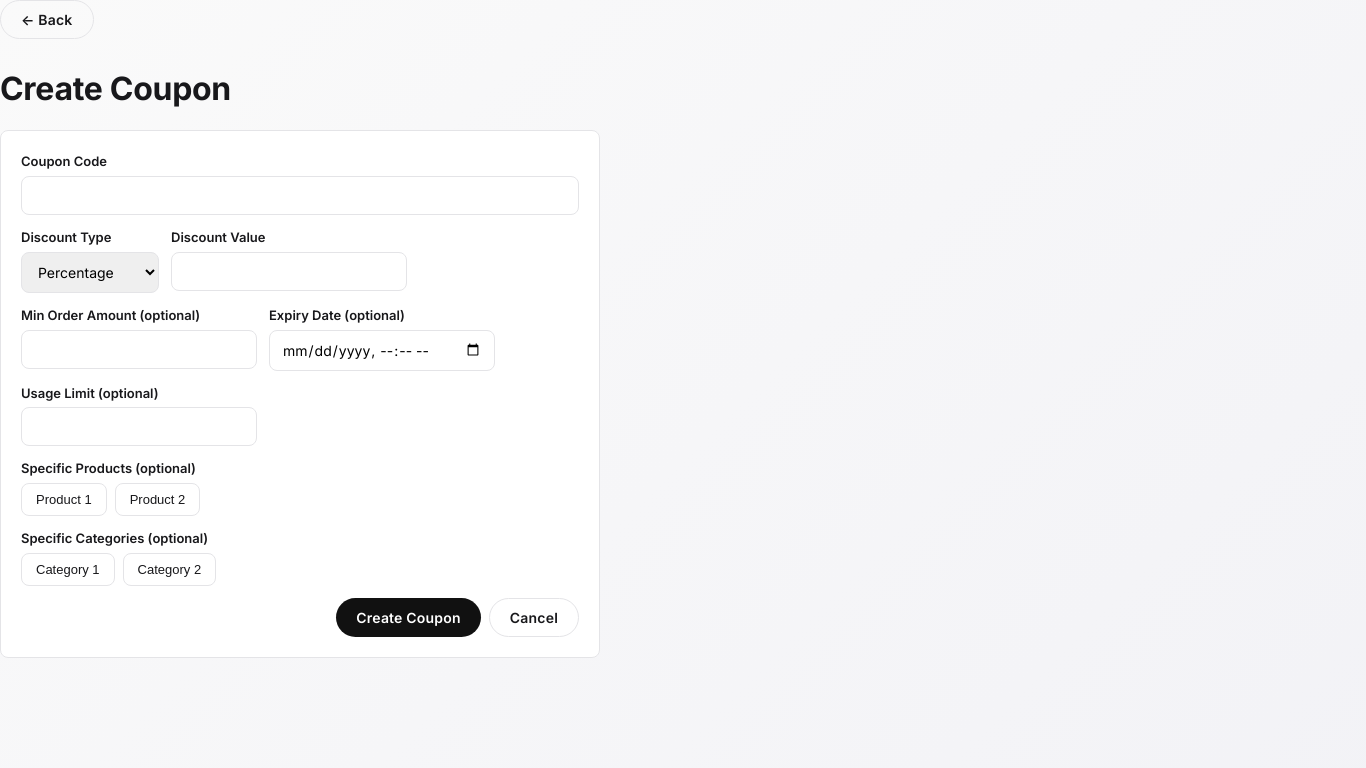
Scenario: AdminCouponForm › Create Mode › should show error when create fails
Type "SAVE10" into the field below "Coupon Code".
click(300, 196); type("SAVE10")  # box [21,176,579,215]
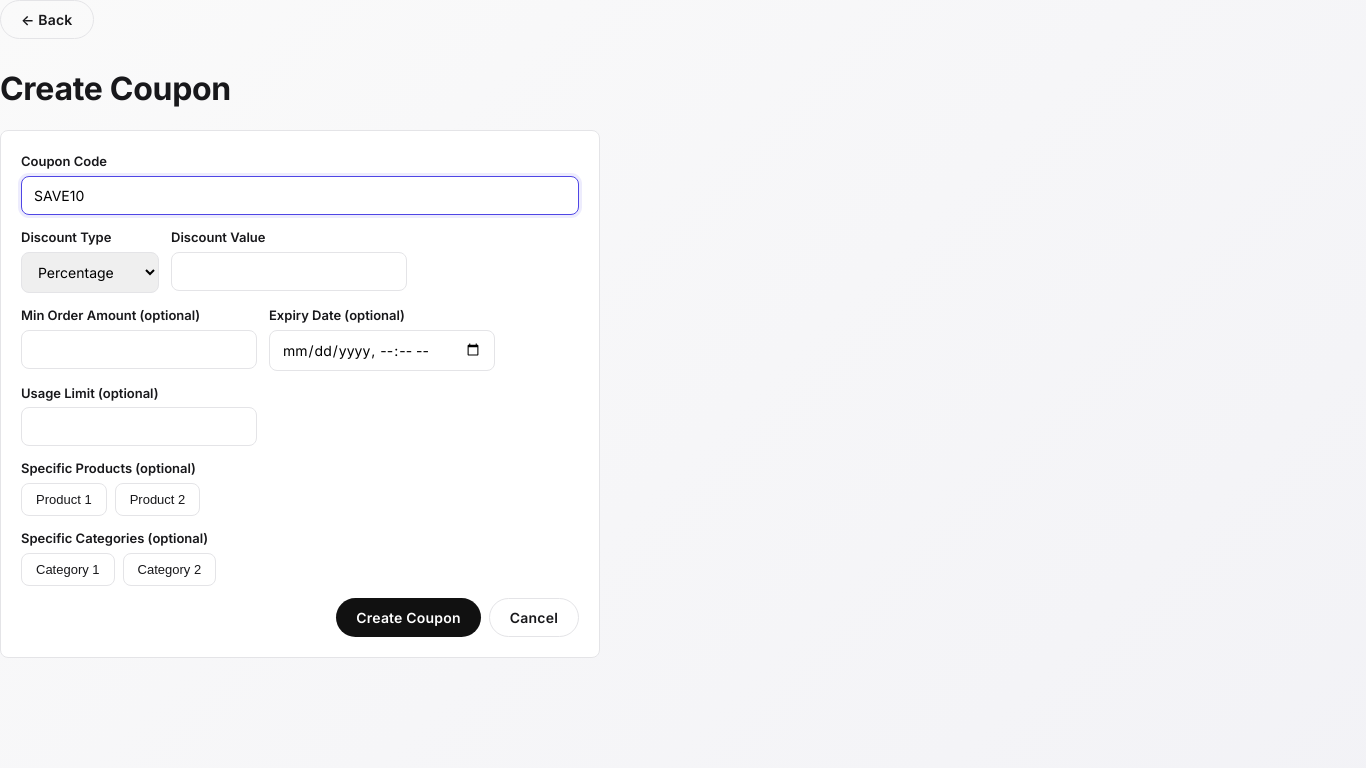
Type "10" into the number field below "Discount Value".
click(289, 271); type("10")  # box [171,252,407,291]
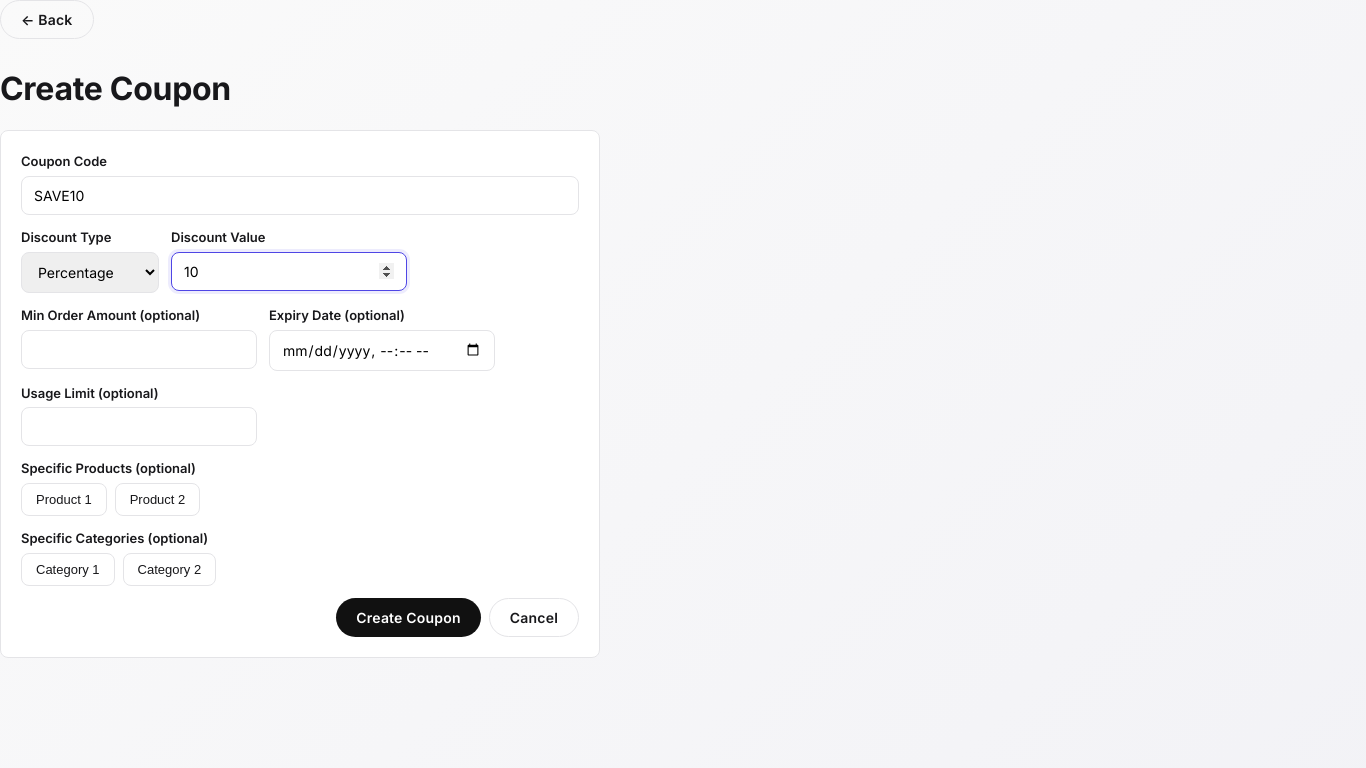
Click the button "Create Coupon".
click(409, 618)  # box [336,598,481,637]
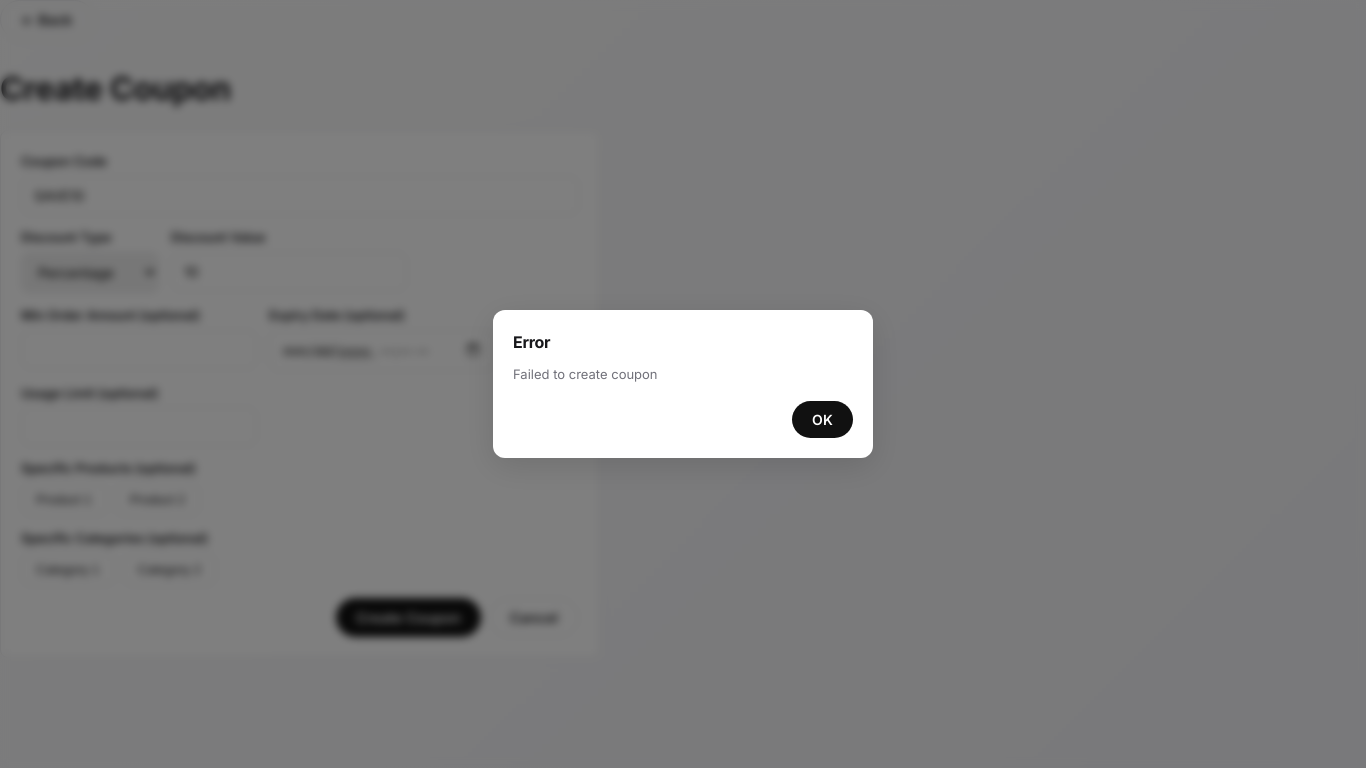
expect the text "Failed to create coupon" is shown: met, box [513,366,658,382]
